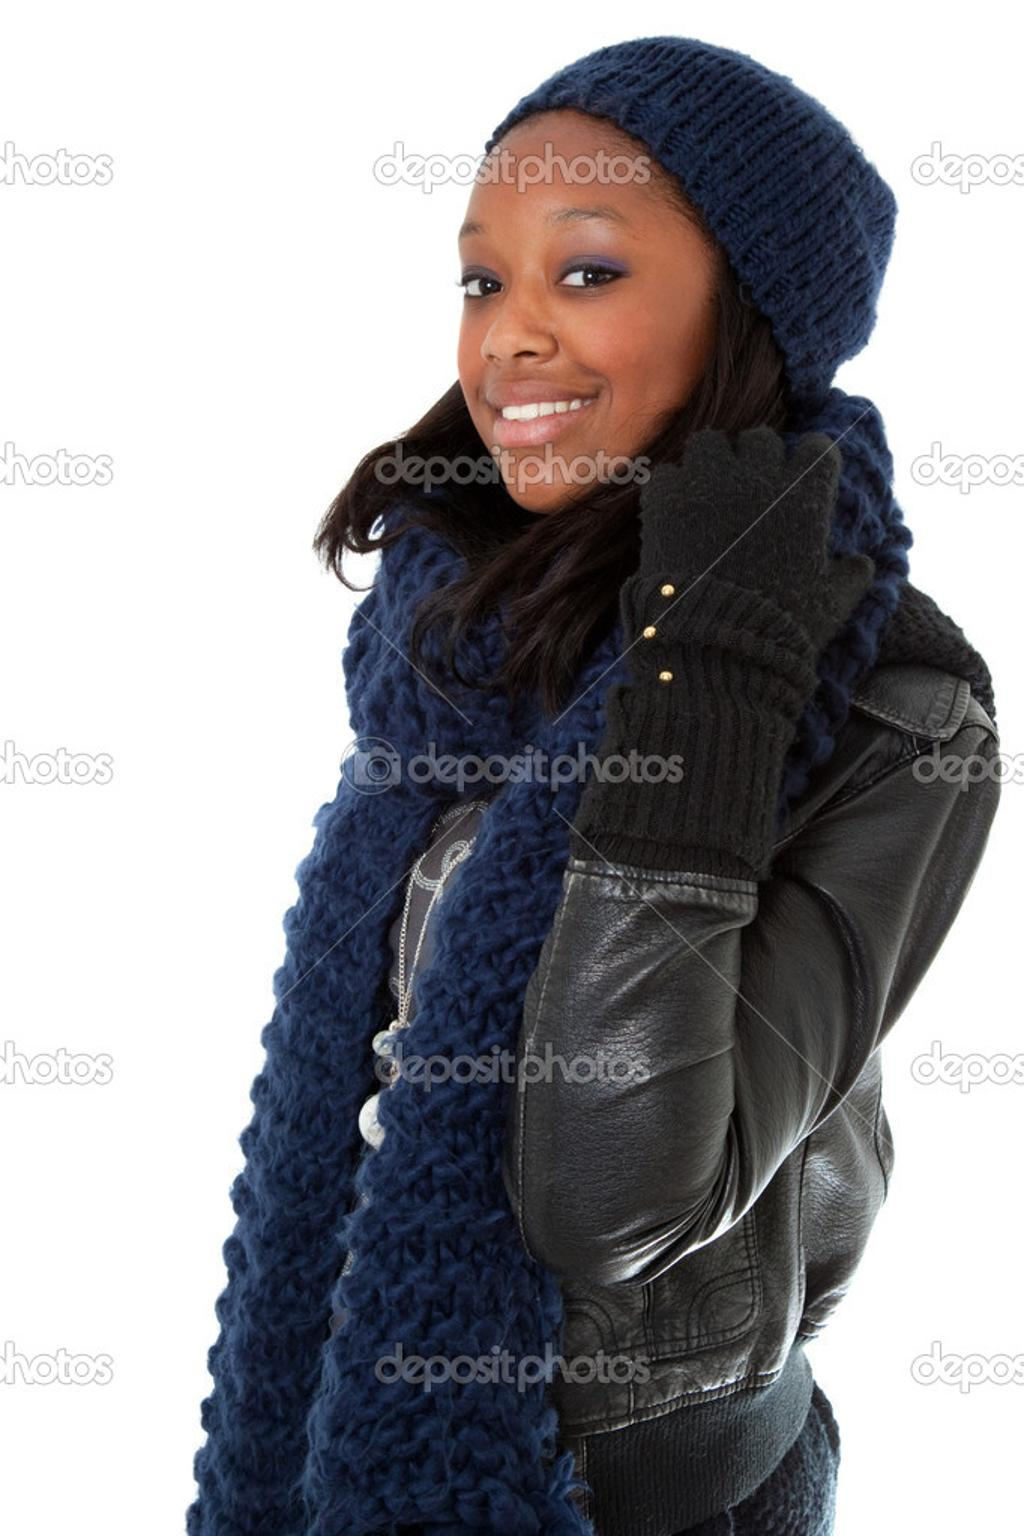face: (462, 114, 729, 501)
